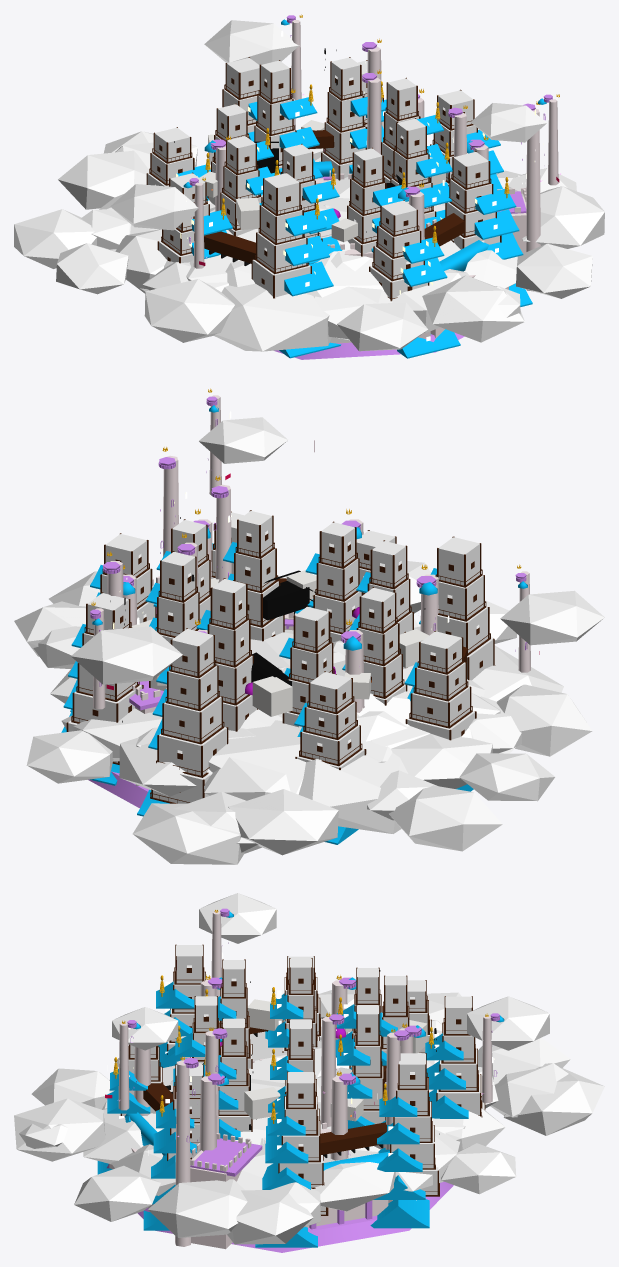
Rendered from fairytale_castle_med_compressed (6).glb.
3 views of the same model, one above another, from view 1: azimuth 30°, elevation 25°; view 2: azimuth 150°, elevation 25°; view 3: azimuth 270°, elevation 25° (orthographic). The views are drawn at different scales.
Bounding box in the file's own units: 5481364 × 2509474 × 5680830.
